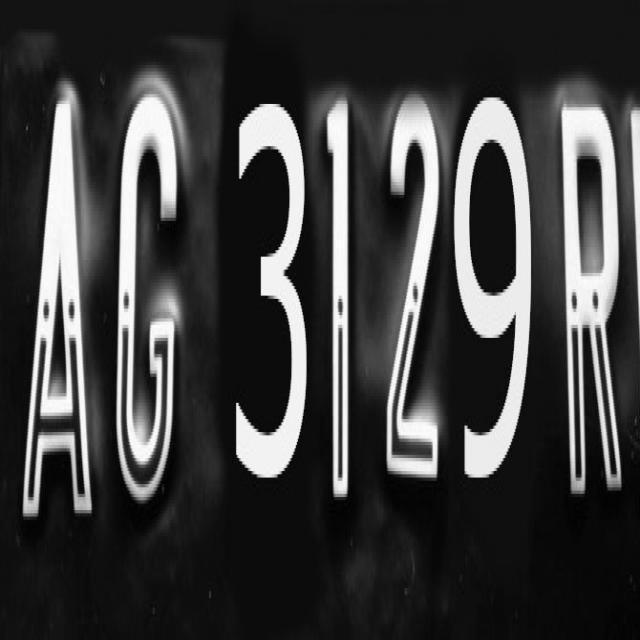1: (313, 86, 371, 510)
2: (384, 83, 444, 493)
3: (240, 90, 302, 494)
9: (451, 98, 518, 489)
A: (18, 73, 104, 534)
G: (93, 67, 204, 516)
R: (553, 98, 629, 497)
